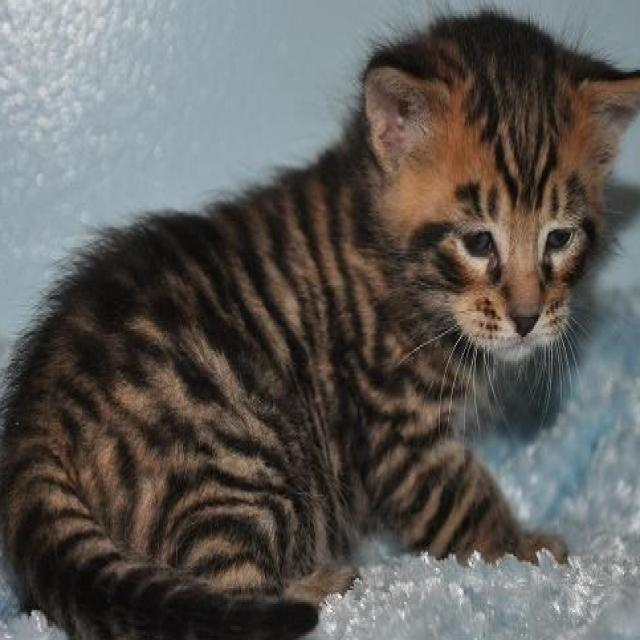Toyger: (0, 2, 640, 640)
